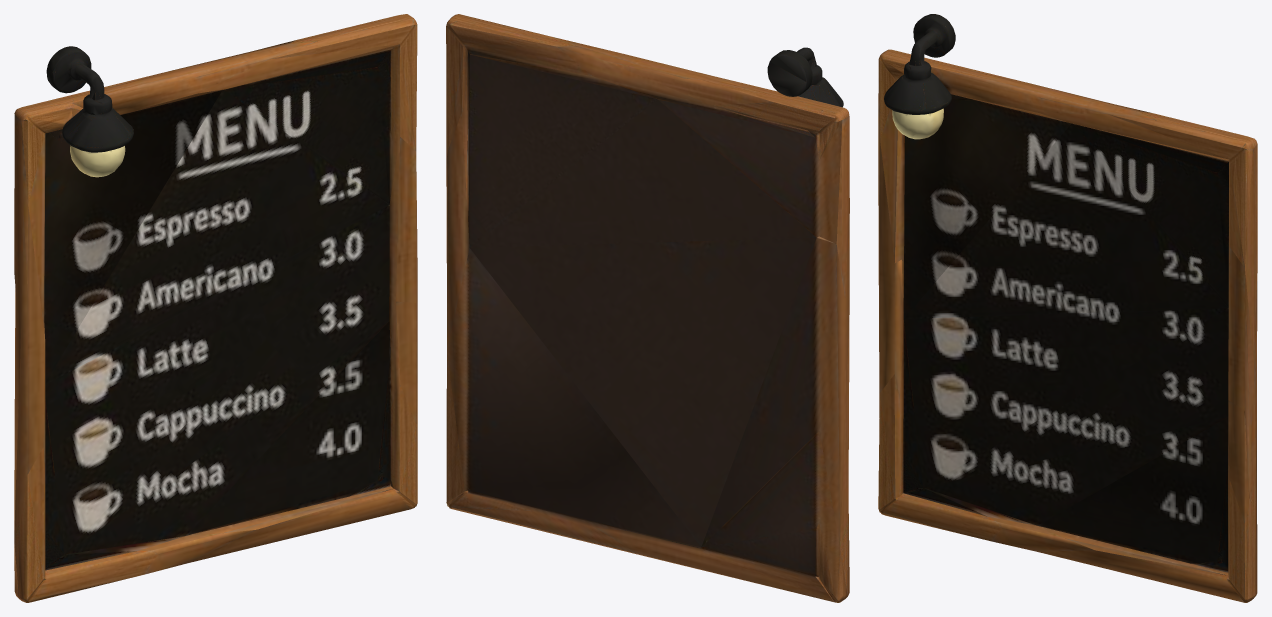
Rendered from menu_board.gltf.
3 renders of one model, left to right at view 1: azimuth 30°, elevation 25°; view 2: azimuth 150°, elevation 25°; view 3: azimuth 330°, elevation 25°, orthographic. The views are drawn at different scales.
Parts seen in each view (by area): view 1: menu_board; view 2: menu_board; view 3: menu_board.
Boxes of the visible parts, x1,y1,x2,y2 form: menu_board: (14,14,417,602); menu_board: (446,14,849,602); menu_board: (878,14,1257,602).
Size of the model in its own units: 1.77 by 2.3 by 0.3518.
Materials: 1 (1 with a texture image).
